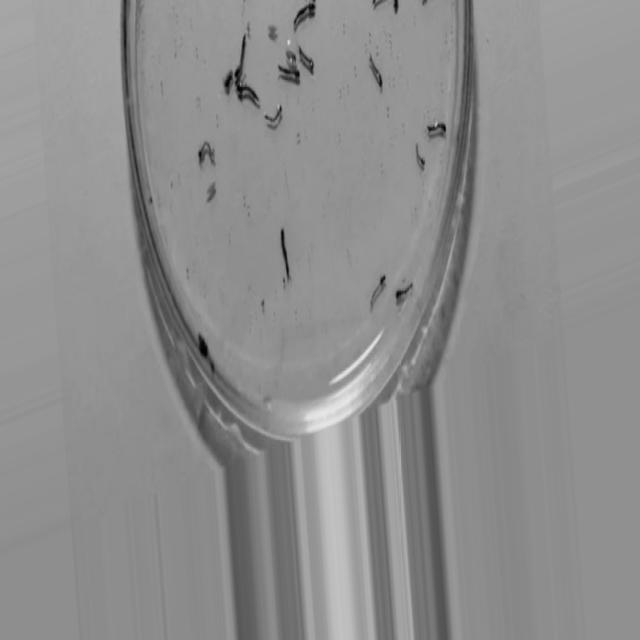larvas: (235, 32, 246, 80), (370, 276, 385, 310), (279, 229, 290, 272), (368, 56, 382, 86), (294, 4, 314, 21), (237, 86, 259, 101), (199, 139, 214, 160), (427, 121, 448, 134), (396, 282, 412, 298), (300, 49, 314, 67), (266, 106, 282, 121), (277, 66, 301, 76), (417, 141, 425, 166), (393, 0, 401, 13)
